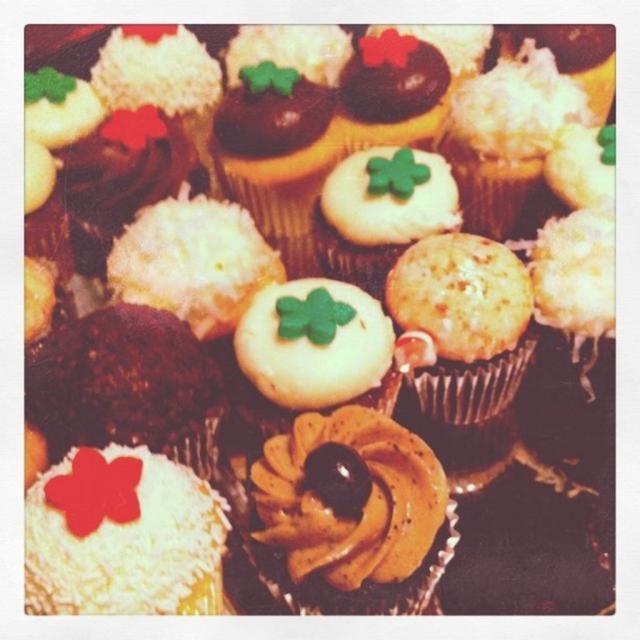Muffin: (23, 20, 618, 618)
